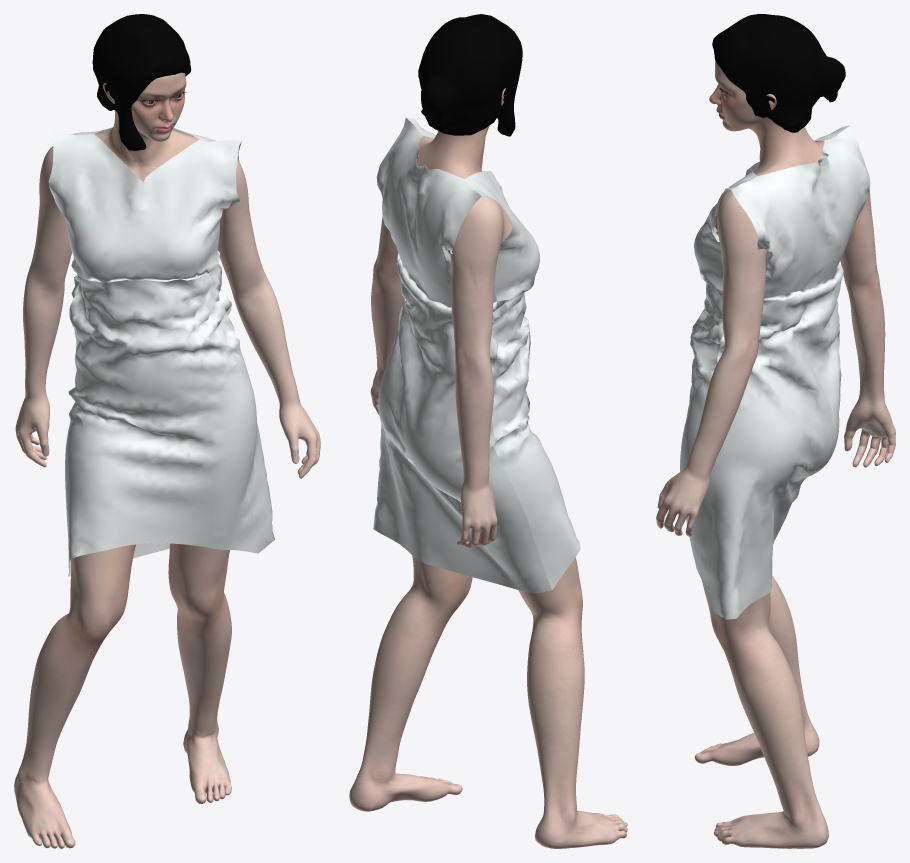
File: Dramatic.obj
3 renders of one model, left to right at view 1: azimuth 30°, elevation 25°; view 2: azimuth 150°, elevation 25°; view 3: azimuth 270°, elevation 25°, orthographic. The views are drawn at different scales.
Bounding box in the file's own units: 612 × 1724 × 471.
